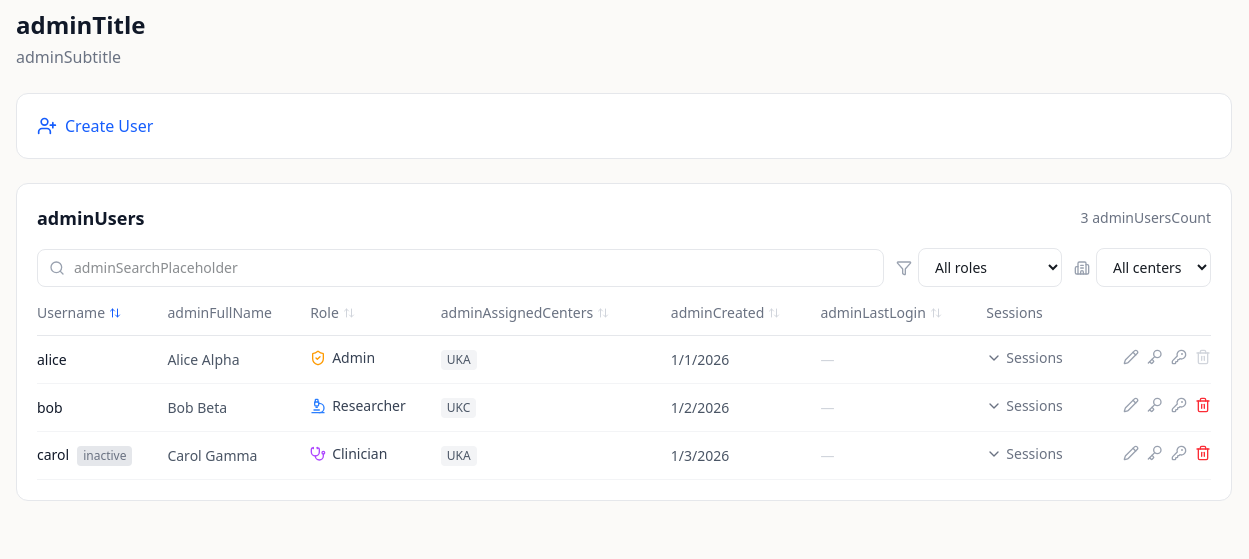
Test: UMGMT-02 — edit dialog: firstName, lastName all required › shows lastName error and blocks submit when lastName is empty
expect the text "alice" is shown: met, box [37,336,167,384]
expect the text "bob" is shown: met, box [37,384,167,432]
Click the button named "Edit" in the row of "Bob Beta" at [1131, 405], box [1123,397,1139,413]
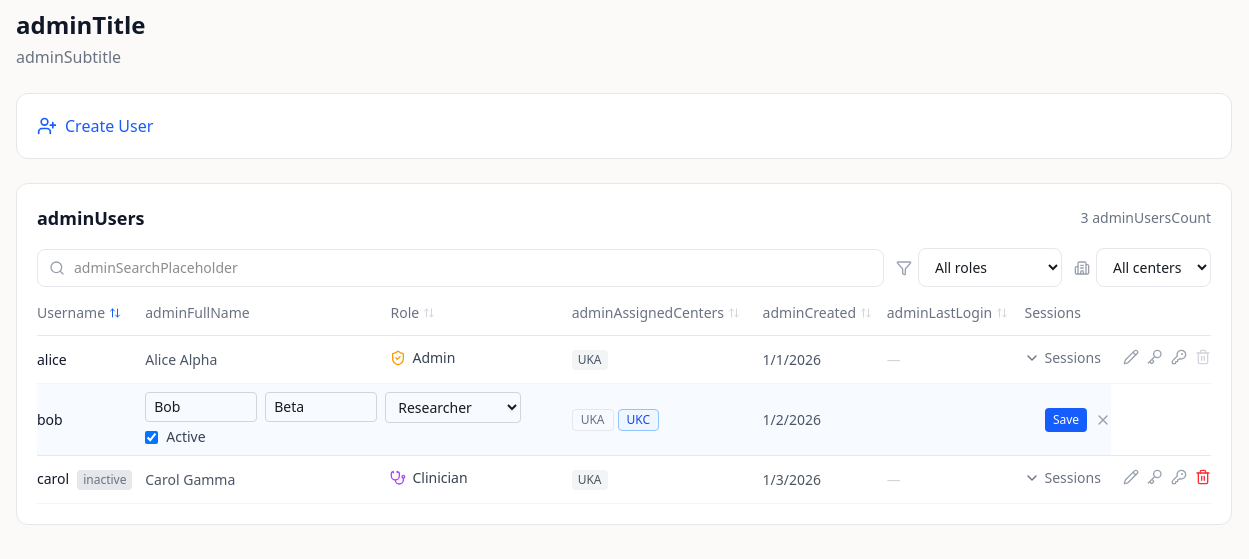
expect the 1st field with placeholder "First name" is shown: met, box [145,392,257,422]
Clear the 2nd field with placeholder "Last name" at [321, 407], box [265,392,377,422]
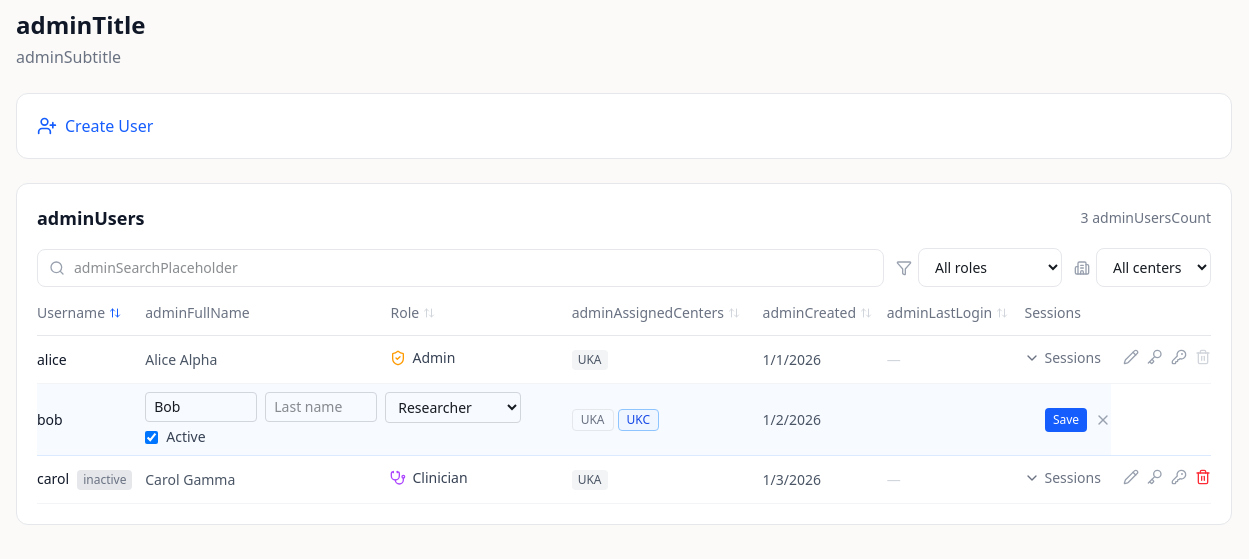
Click the button "Save" at [1066, 420], box [1045,408,1087,432]
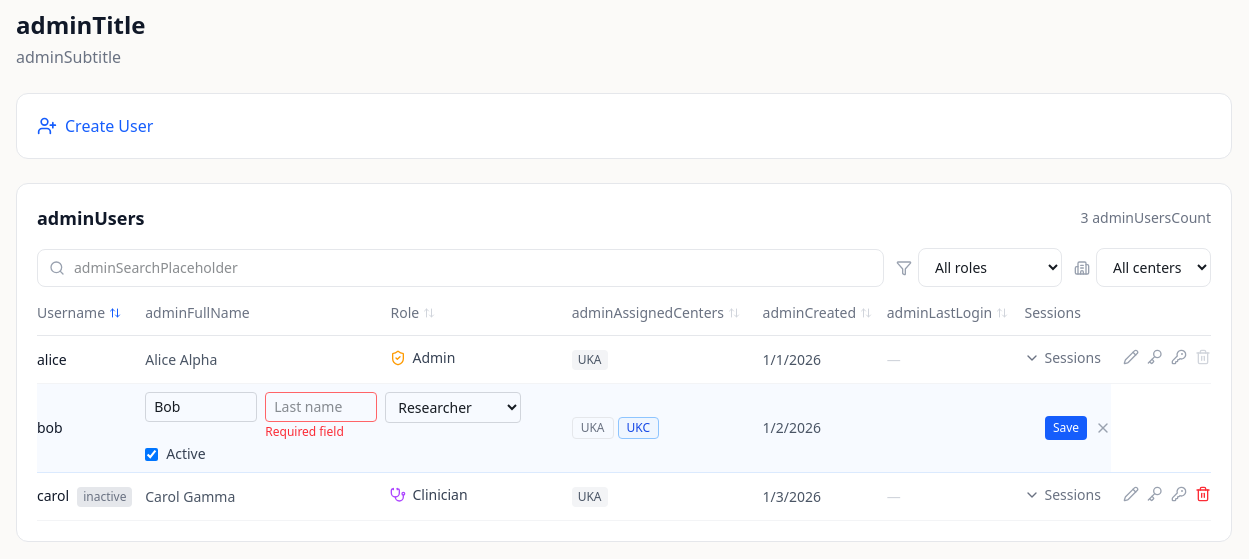
expect the text "Required field" is shown: met, box [265,423,344,440]
